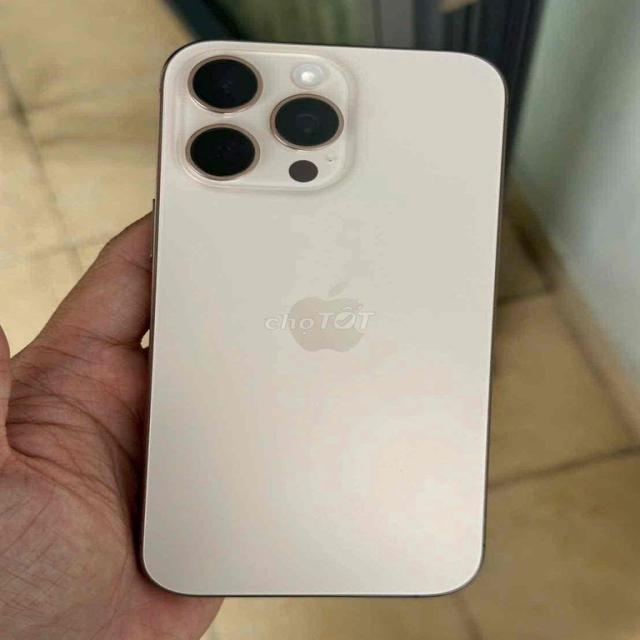gen_16: (142, 40, 505, 597)
